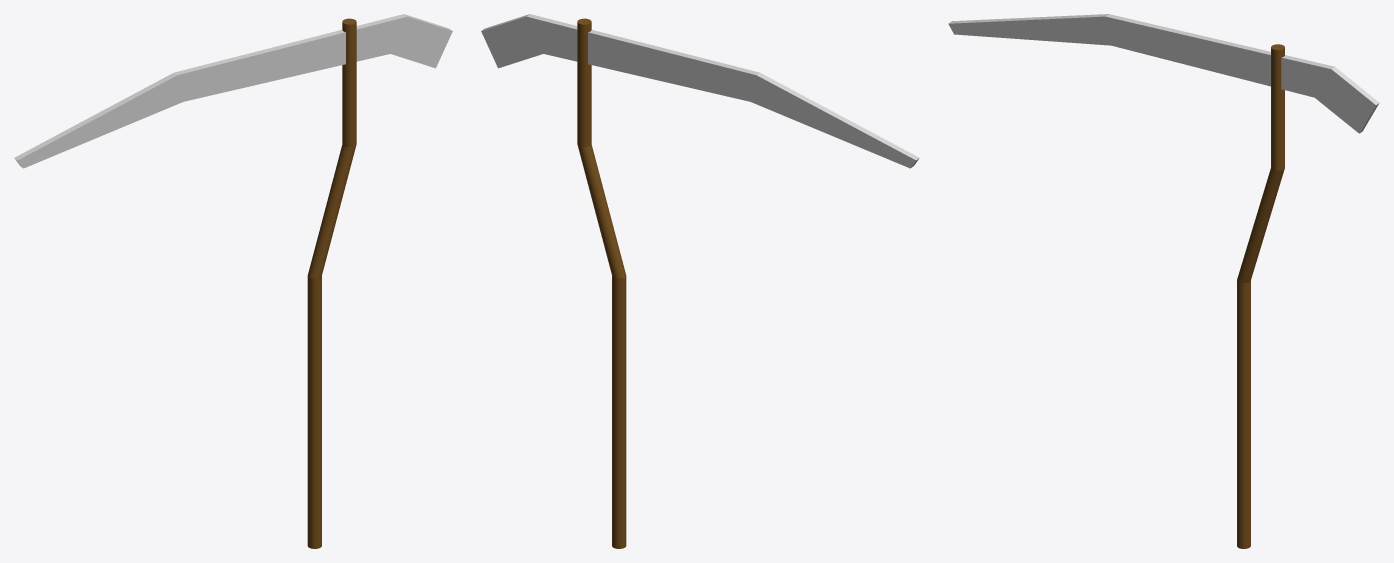
Rendered from Kosa.fbx.
3 renders of one model, left to right at view 1: azimuth 30°, elevation 25°; view 2: azimuth 150°, elevation 25°; view 3: azimuth 330°, elevation 25°, orthographic.
Visible parts, largest first — view 1: Cube, Cylinder; view 2: Cube, Cylinder; view 3: Cube, Cylinder.
Part boxes in pixels (left/top/right/bottom): Cube: left=14, top=14, right=452, bottom=168; Cylinder: left=307, top=18, right=356, bottom=548; Cube: left=481, top=14, right=919, bottom=168; Cylinder: left=577, top=18, right=626, bottom=548; Cube: left=948, top=14, right=1379, bottom=133; Cylinder: left=1237, top=44, right=1284, bottom=548.
Size of the model in its own units: 487 by 551 by 13.75.
